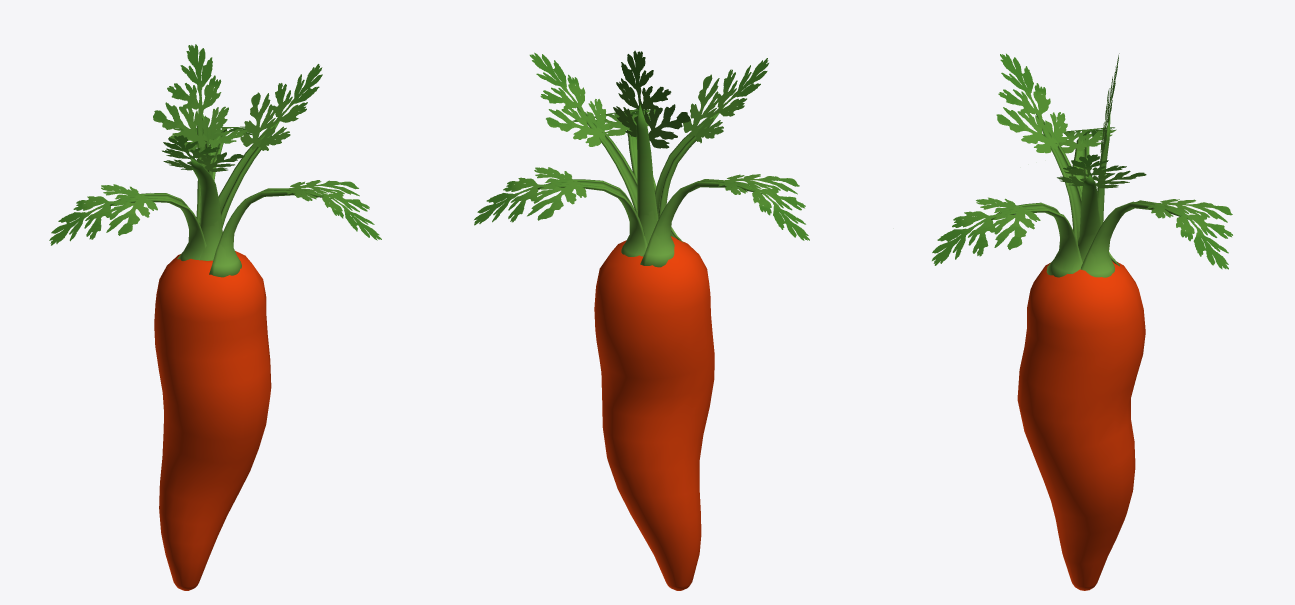
The model's file is SM_Wortel.fbx.
3 renders of one model, left to right at view 1: azimuth 30°, elevation 25°; view 2: azimuth 150°, elevation 25°; view 3: azimuth 270°, elevation 25°, orthographic. The views are drawn at different scales.
Visible parts, largest first — view 1: Roundcube.001, Circle.008; view 2: Roundcube.001, Circle.008; view 3: Roundcube.001, Circle.008.
Boxes of the visible parts, x1,y1,x2,y2 form: Roundcube.001: (154,251,271,590); Circle.008: (49,44,381,277); Roundcube.001: (594,236,714,590); Circle.008: (474,50,809,267); Roundcube.001: (1017,261,1145,590); Circle.008: (932,53,1232,277).
Size of the model in its own units: 678 by 1068 by 683.
